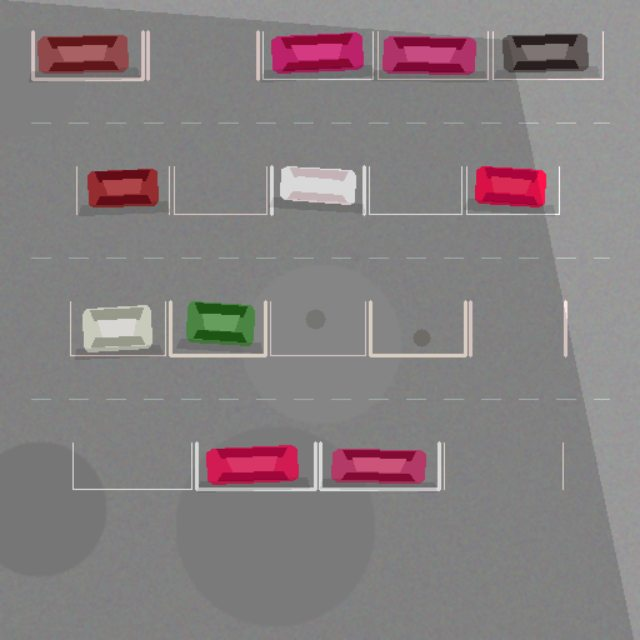space-empty: (444, 442, 563, 489), (73, 442, 191, 489), (147, 31, 257, 79), (270, 301, 365, 355), (370, 301, 465, 355), (470, 301, 565, 355), (174, 166, 266, 214), (369, 166, 461, 214)
space-occupied: (196, 442, 315, 489), (320, 442, 439, 489), (33, 31, 143, 79), (263, 31, 373, 79), (377, 31, 487, 79), (493, 31, 603, 79), (70, 301, 165, 355), (170, 301, 265, 355), (76, 166, 169, 214), (271, 166, 364, 214), (466, 166, 559, 214)
